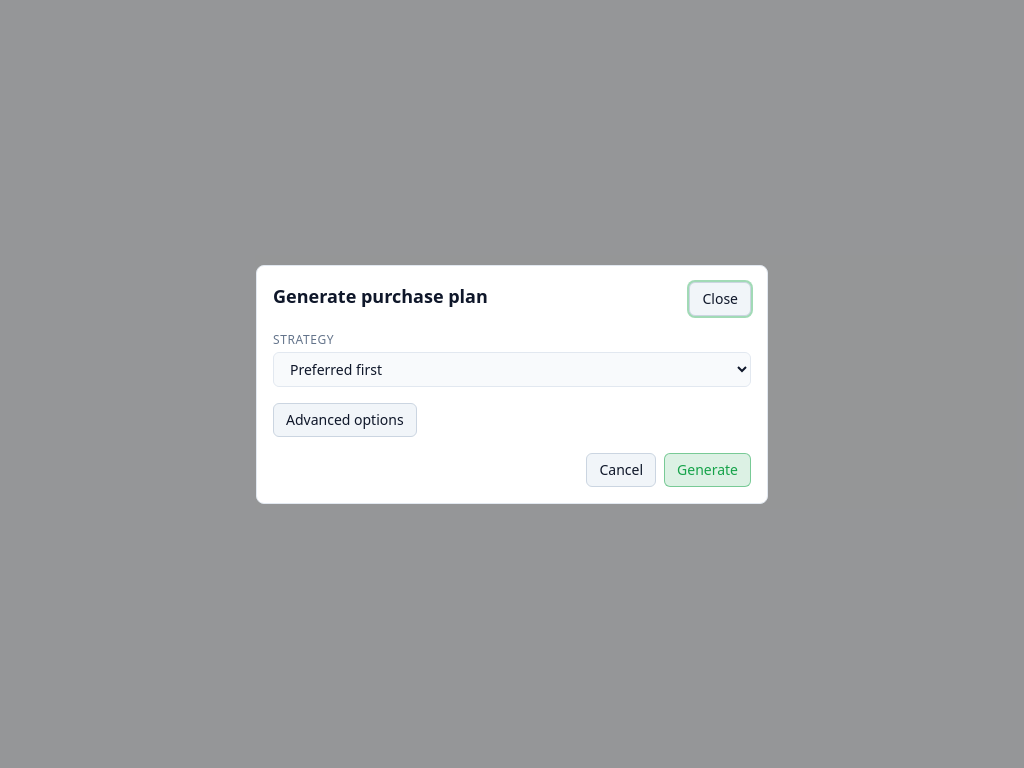
PurchasePlanOptionsModal › advanced options toggle reveals max_distributors and tolerance fields
This screenshot has width=1024, height=768.
Expected: the field labelled "Max distributors" is not shown
Click the button "Advanced options" at (345, 420), box [273,402,417,436]
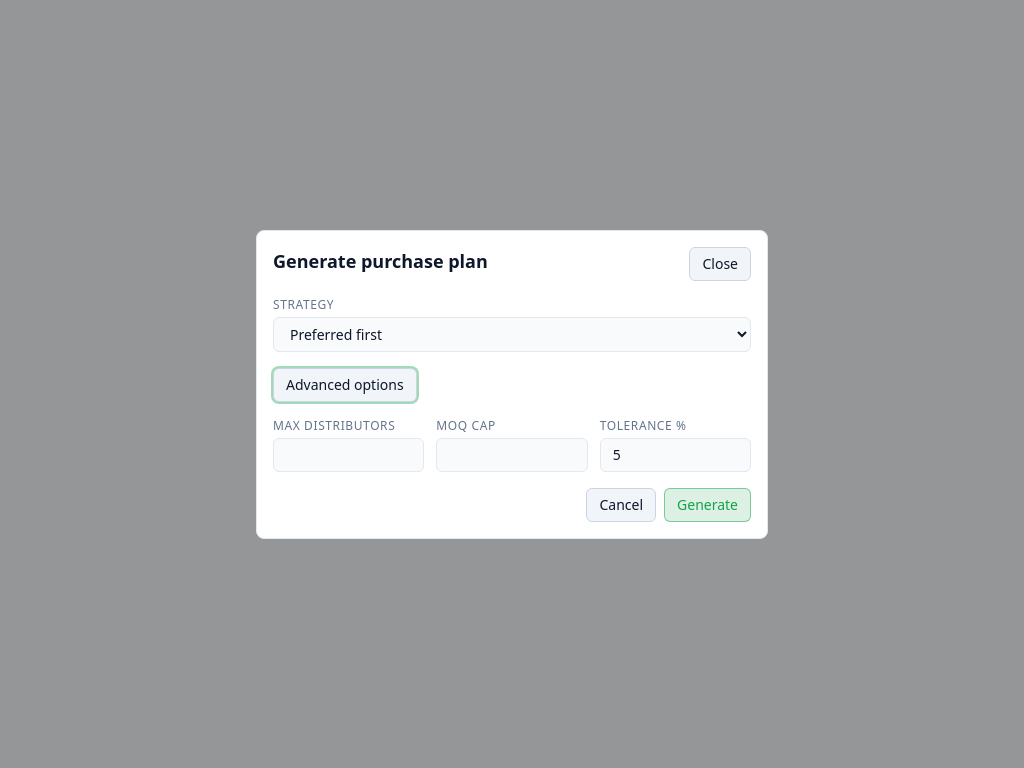
Result: the number field labelled "Max distributors" is shown at [273,438,424,472]
Result: the number field labelled "Tolerance %" is shown at [600,438,751,472]
